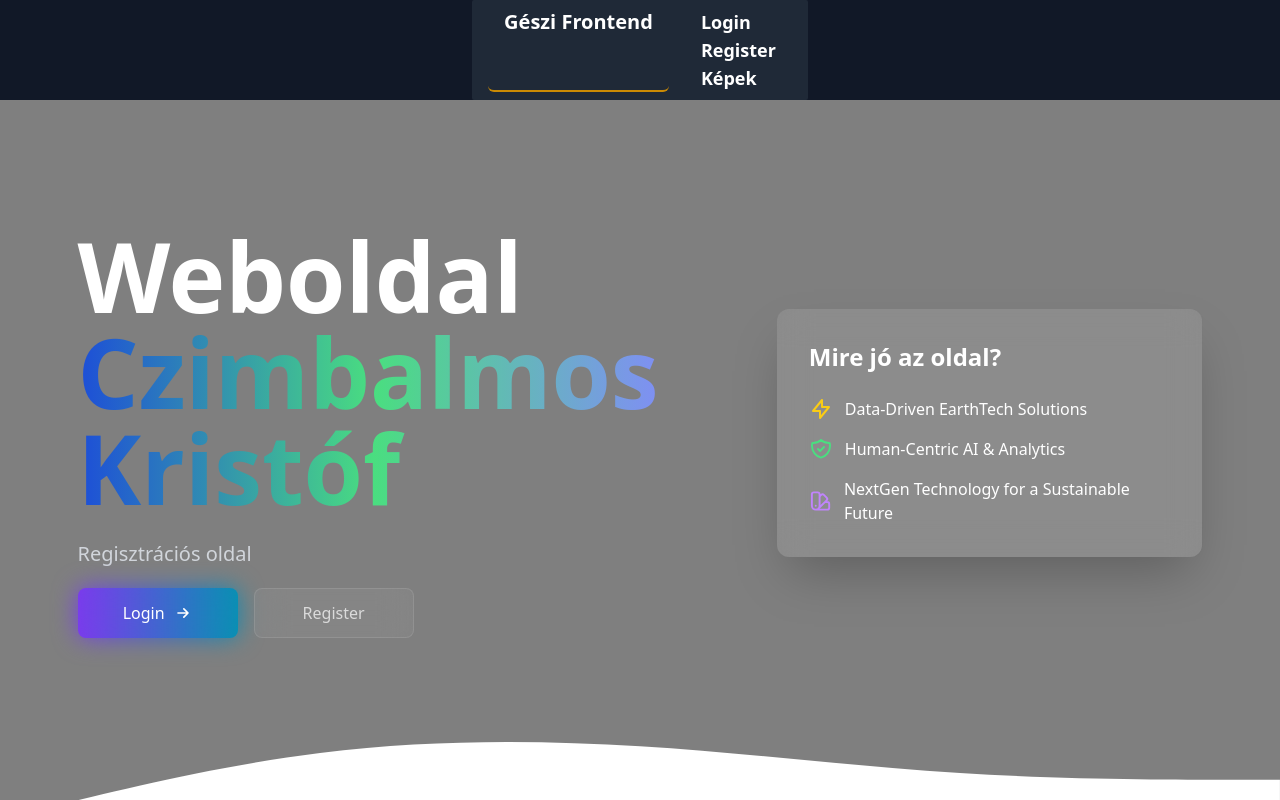
Test: Főoldal és menü teszt › Logi menüpontmegjelenik-e
Click the link "Login".
click(726, 22)  # box [701,10,751,34]
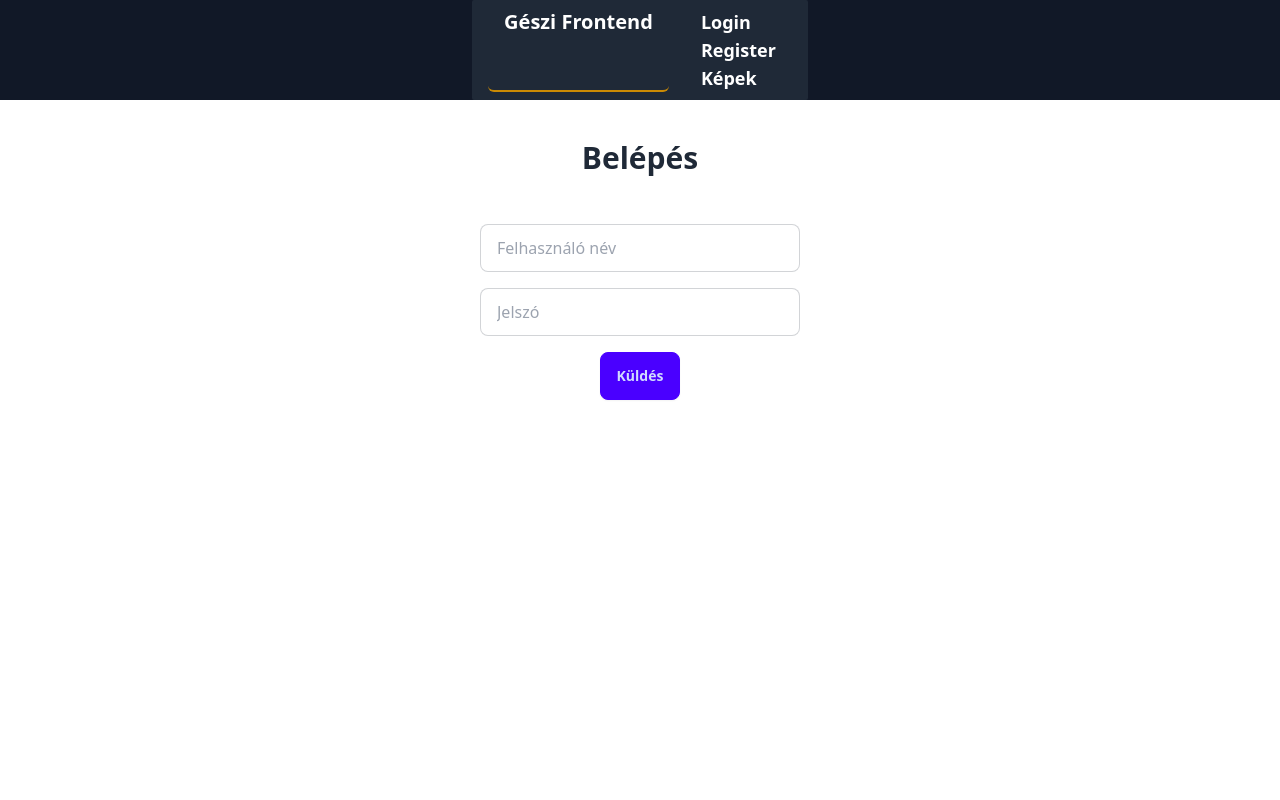
Check: the heading "Belépés" is shown, box [582,137,698,178]
